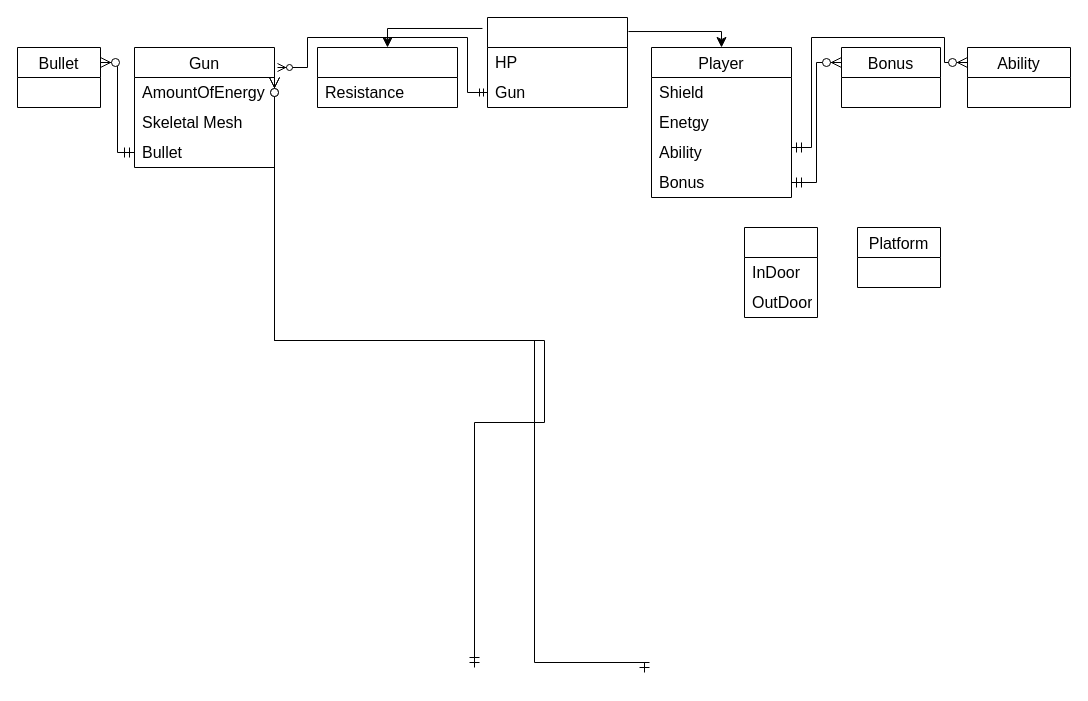
Some shapes in this 1088 by 701 pixel diagram are drawn without their labels. The shapes that lost their labels are listed below. From the top down, each one's box as (x1, y1, x2, y2) in pixels, then its label:
(316, 46, 458, 108): Enemy
(486, 16, 628, 108): BaseCharacter
(744, 226, 818, 318): Room
